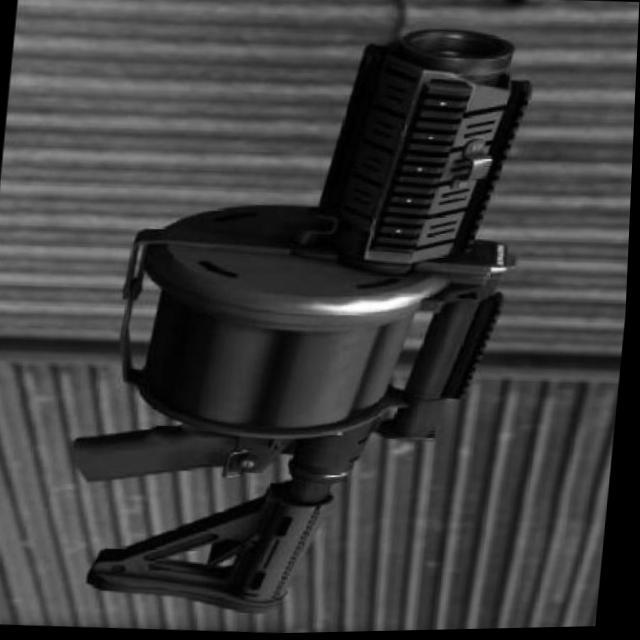weapon: (59, 8, 544, 629)
